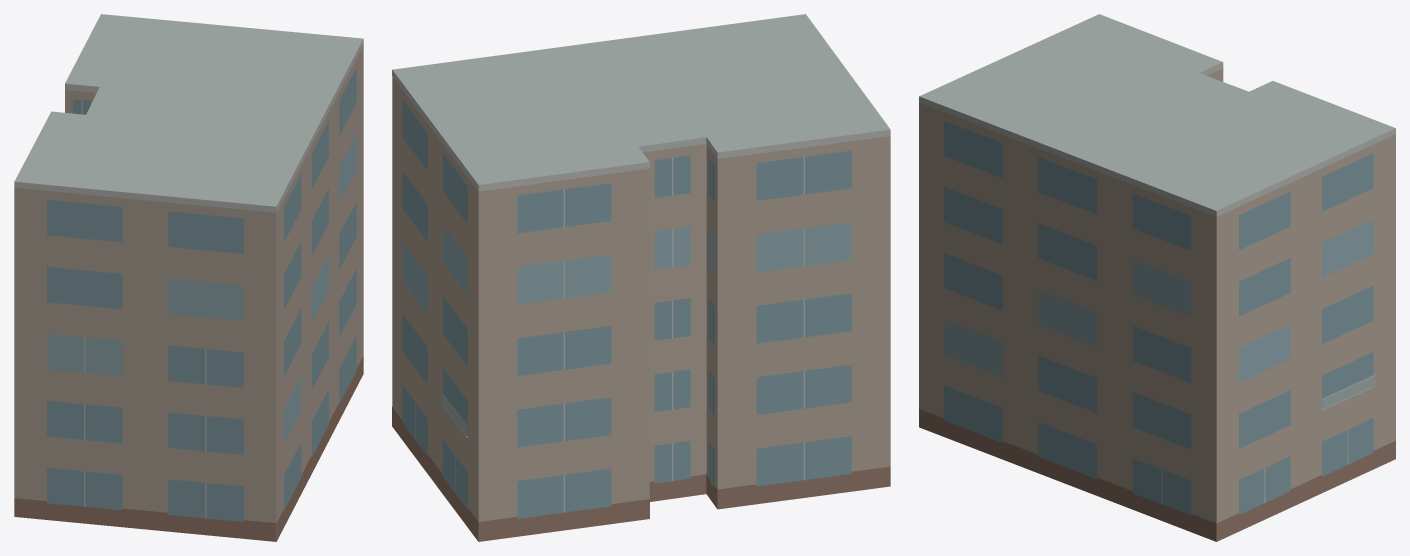
Rendered from survey-upis-32658132.glb.
3 renders of one model, left to right at view 1: azimuth 30°, elevation 25°; view 2: azimuth 150°, elevation 25°; view 3: azimuth 270°, elevation 25°, orthographic. The views are drawn at different scales.
Visible parts, largest first — view 1: survey-upis-32658132.tmp; view 2: survey-upis-32658132.tmp; view 3: survey-upis-32658132.tmp.
Part boxes in pixels (x1,y1,x2,y2): survey-upis-32658132.tmp: (14,14,363,541); survey-upis-32658132.tmp: (392,14,890,541); survey-upis-32658132.tmp: (919,14,1395,541).
Bounding box in the file's own units: 16.98 × 13.3 × 17.37.
